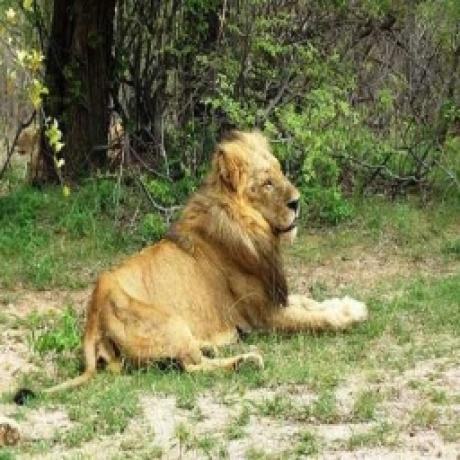Lion: (57, 120, 378, 380)
